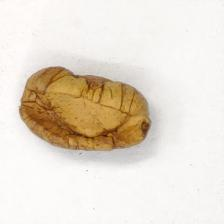NG: (27, 80, 137, 141)
